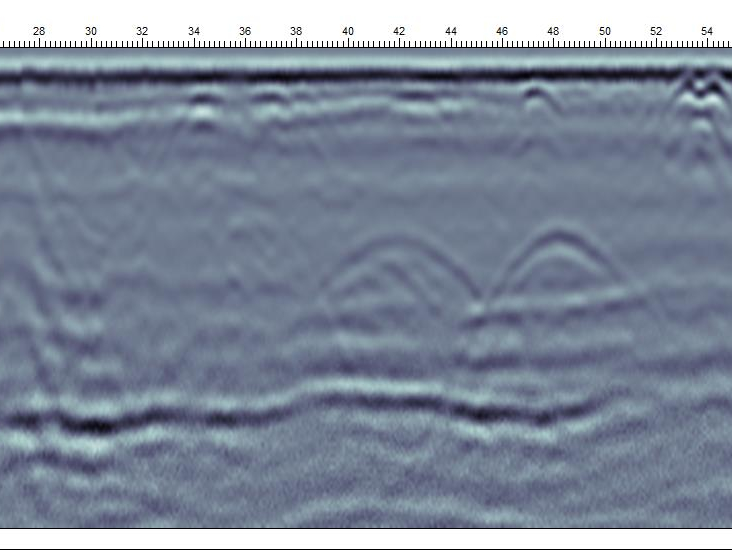hyperbola: (289, 221, 484, 318), (471, 215, 645, 302)
